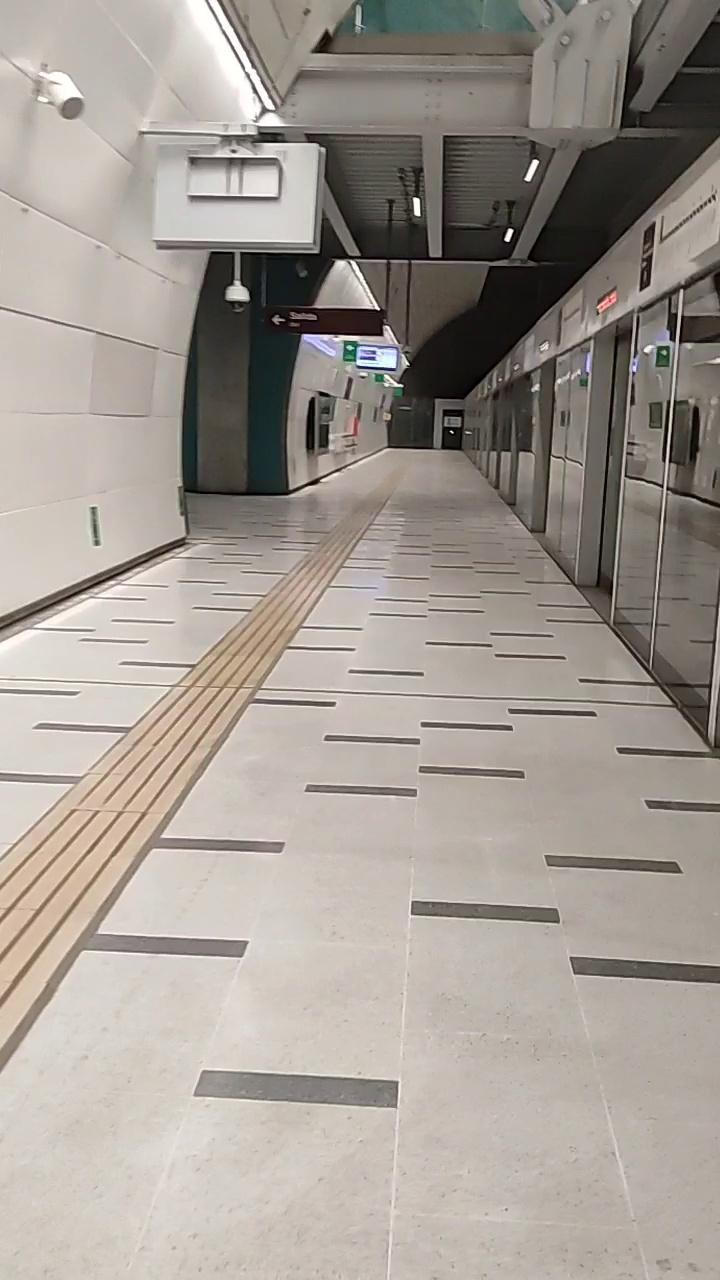left arrow: (268, 310, 288, 328)
